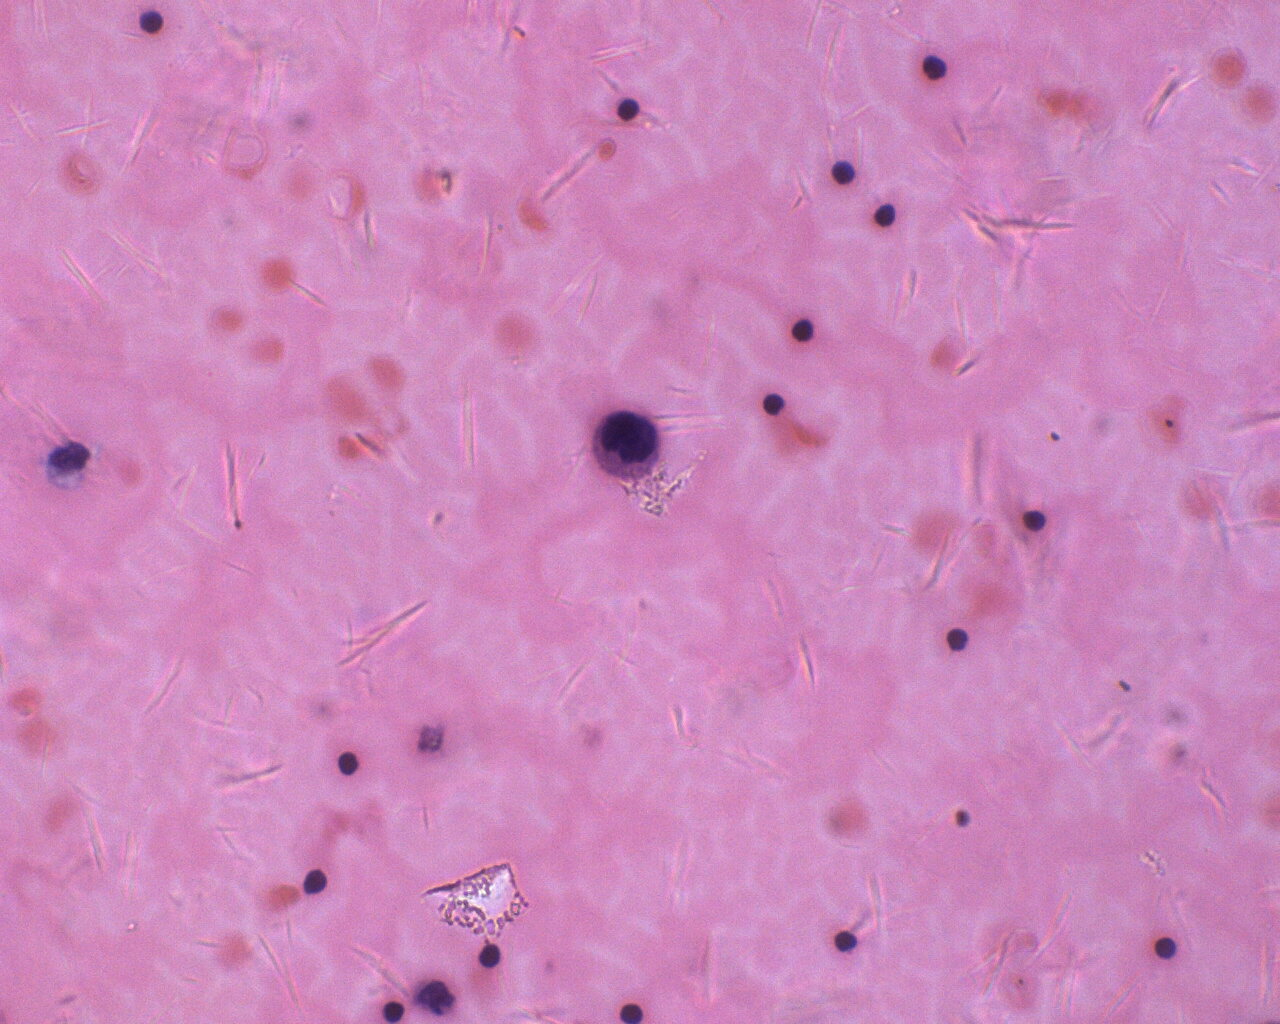ab: (586, 409, 667, 485)
lymph: (1145, 930, 1183, 964), (132, 6, 170, 40), (920, 49, 953, 82), (785, 315, 817, 348), (334, 745, 366, 779), (299, 867, 332, 899), (475, 937, 507, 971), (824, 156, 857, 187), (942, 623, 971, 656)
